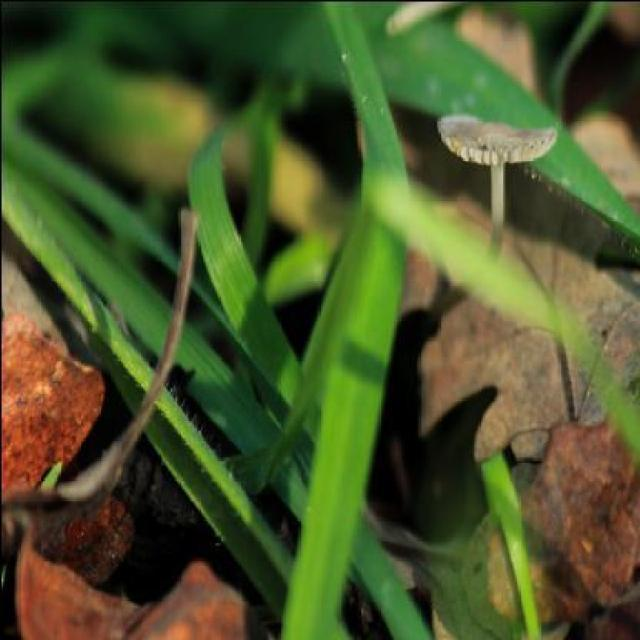Mushroom: (436, 112, 556, 225)
